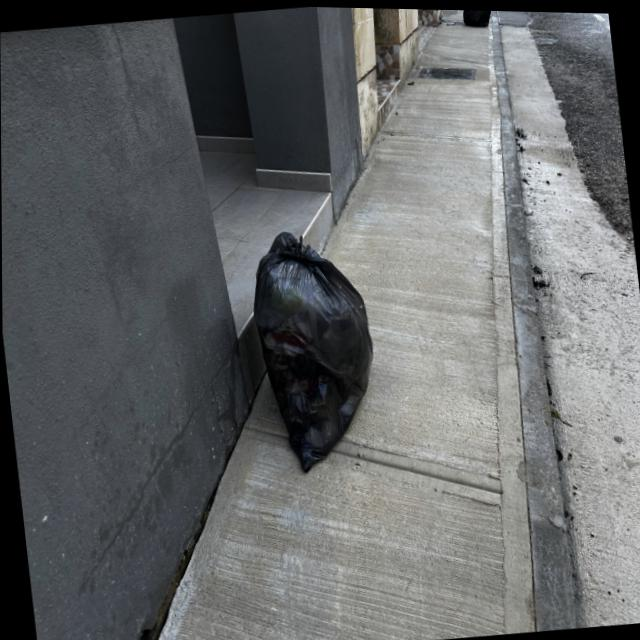Mixed Waste -Black Bags-: (253, 230, 372, 471)
